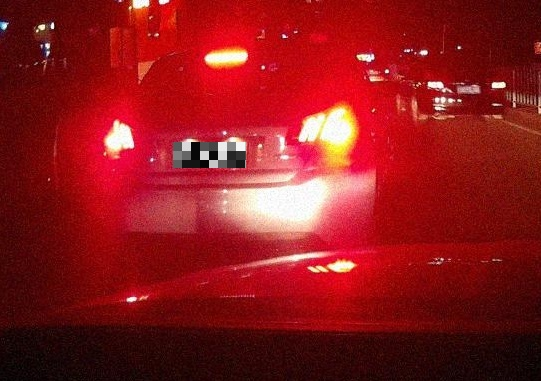L_light: (104, 124, 152, 152), (427, 81, 452, 90)
R_light: (285, 109, 357, 146), (486, 81, 505, 89)
T_light: (204, 50, 249, 65), (453, 65, 467, 68)
night-brake: (103, 41, 376, 265)
night-no: (422, 63, 506, 129)
plate_1: (173, 142, 246, 168)
